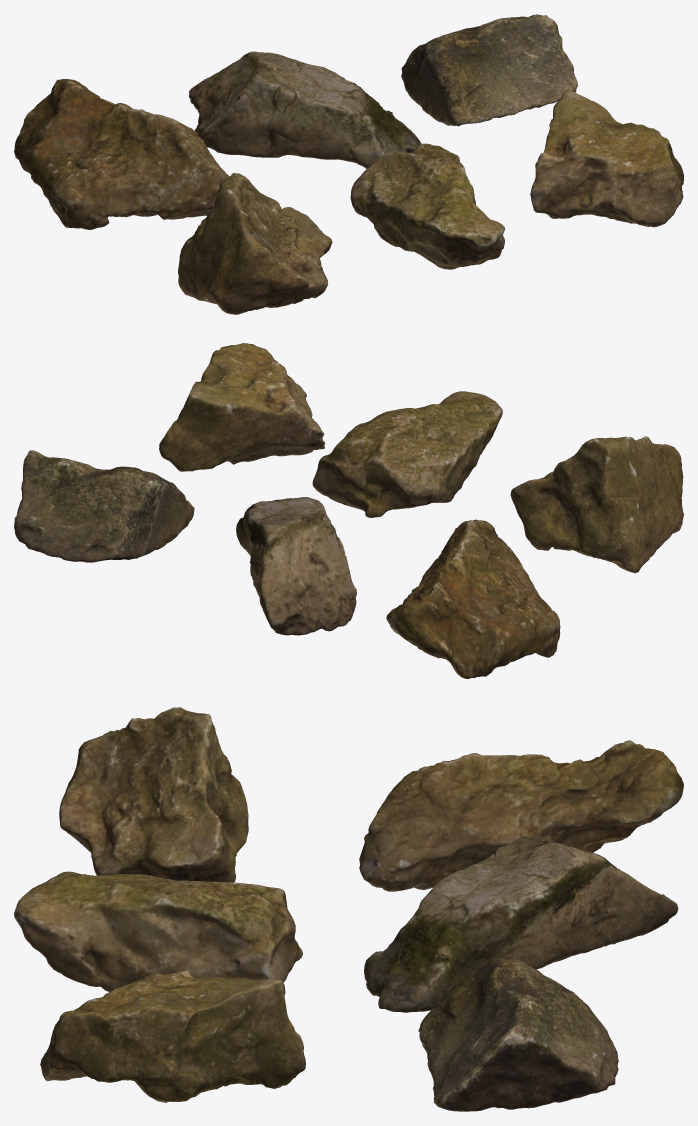
File: rock-moss.gltf
3 renders of one model, top to bottom at view 1: azimuth 30°, elevation 25°; view 2: azimuth 150°, elevation 25°; view 3: azimuth 270°, elevation 25°, orthographic. The views are drawn at different scales.
Parts seen in each view (by area): view 1: rock_moss_set_01_rock01, rock_moss_set_01_rock02, rock_moss_set_01_rock06, rock_moss_set_01_rock04, rock_moss_set_01_rock03, rock_moss_set_01_rock05; view 2: rock_moss_set_01_rock04, rock_moss_set_01_rock01, rock_moss_set_01_rock05, rock_moss_set_01_rock03, rock_moss_set_01_rock06, rock_moss_set_01_rock02; view 3: rock_moss_set_01_rock01, rock_moss_set_01_rock02, rock_moss_set_01_rock05, rock_moss_set_01_rock04, rock_moss_set_01_rock06, rock_moss_set_01_rock03.
Boxes of the visible parts, box(x1,y1,x2,y2) form: rock_moss_set_01_rock01: box(14, 79, 229, 229); rock_moss_set_01_rock02: box(189, 51, 421, 168); rock_moss_set_01_rock06: box(530, 89, 683, 227); rock_moss_set_01_rock04: box(178, 173, 332, 314); rock_moss_set_01_rock03: box(401, 14, 577, 126); rock_moss_set_01_rock05: box(350, 143, 504, 269); rock_moss_set_01_rock04: box(510, 436, 683, 573); rock_moss_set_01_rock01: box(386, 519, 560, 678); rock_moss_set_01_rock05: box(312, 391, 502, 517); rock_moss_set_01_rock03: box(14, 450, 194, 562); rock_moss_set_01_rock06: box(159, 343, 325, 471); rock_moss_set_01_rock02: box(236, 497, 356, 635); rock_moss_set_01_rock01: box(359, 740, 683, 891); rock_moss_set_01_rock02: box(364, 836, 678, 1012); rock_moss_set_01_rock05: box(14, 871, 302, 991); rock_moss_set_01_rock04: box(59, 707, 248, 882); rock_moss_set_01_rock06: box(40, 970, 305, 1102); rock_moss_set_01_rock03: box(418, 956, 618, 1111).
Bounding box in the file's own units: 8 × 1.77 × 6.95.
Materials: 1 (1 with a texture image).
